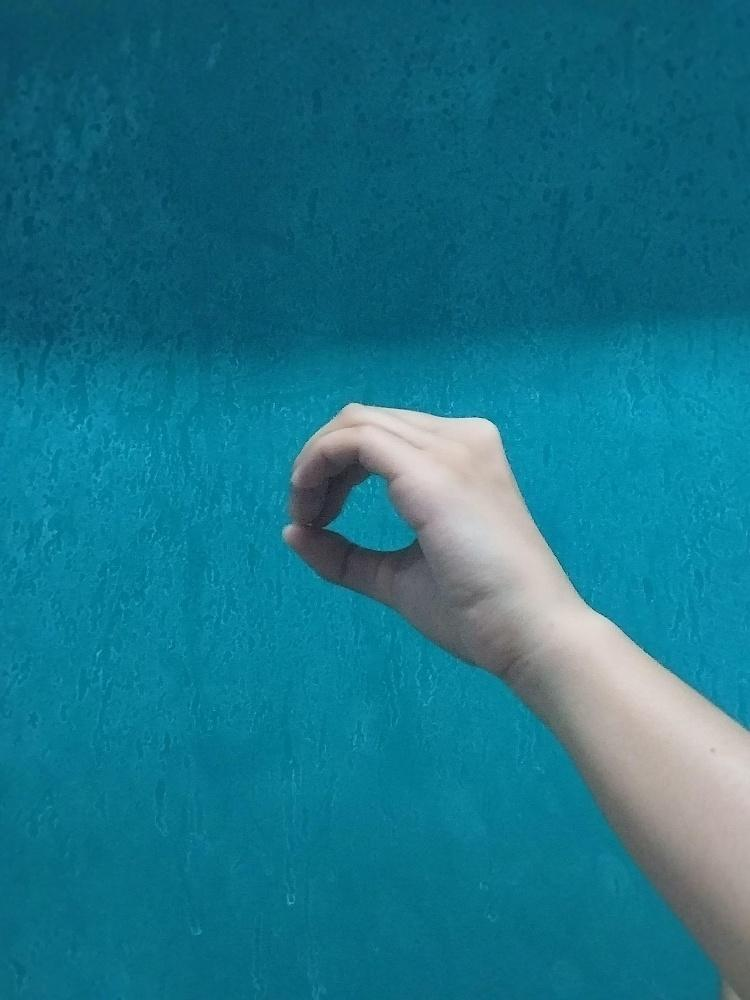o: (277, 400, 528, 672)
